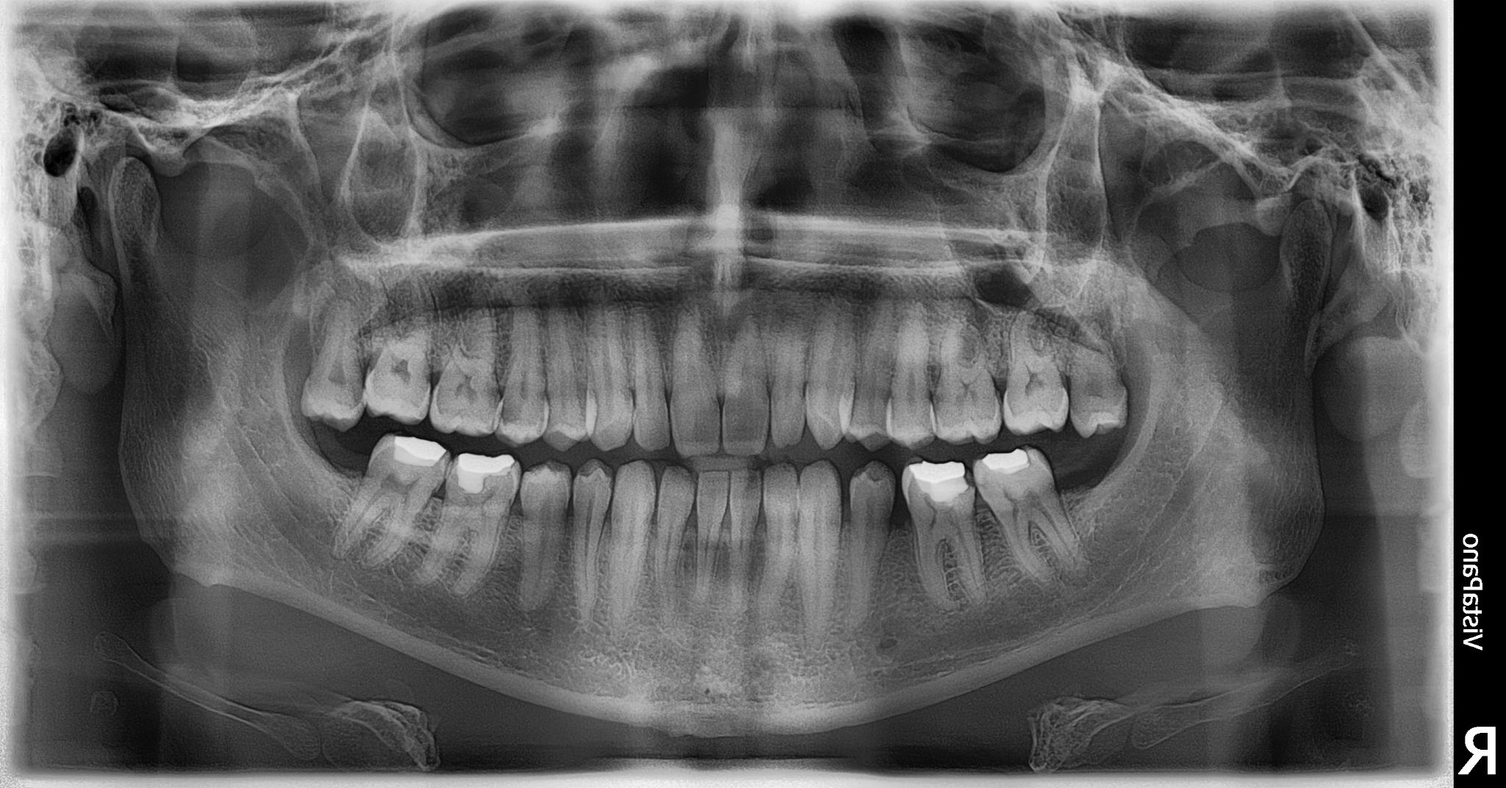Premolars: (540, 251, 1506, 697), (514, 232, 1417, 680), (505, 196, 1506, 516), (572, 218, 1506, 556), (529, 211, 1506, 533), (306, 218, 877, 685), (225, 367, 753, 788), (281, 209, 824, 510), (256, 228, 757, 525), (224, 166, 651, 441)
